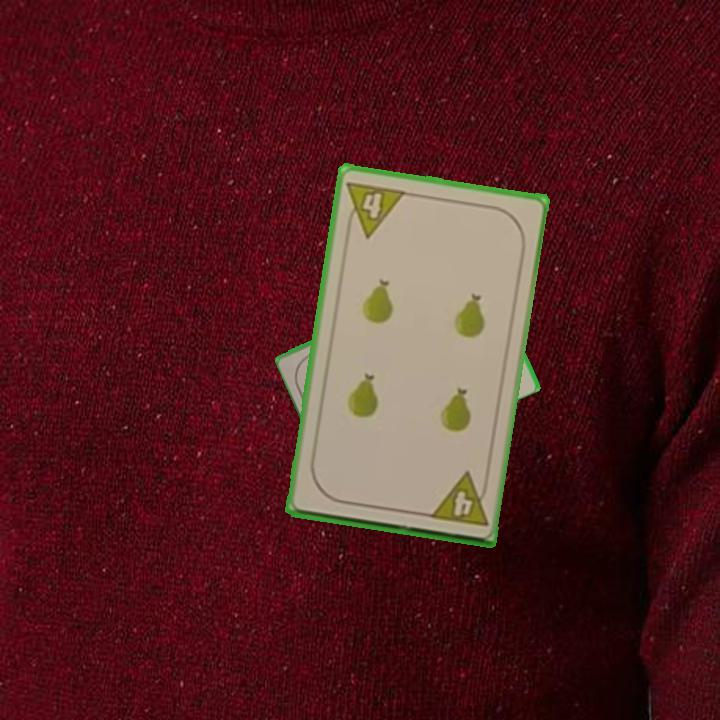4p: (341, 177, 409, 241), (425, 469, 491, 530)
